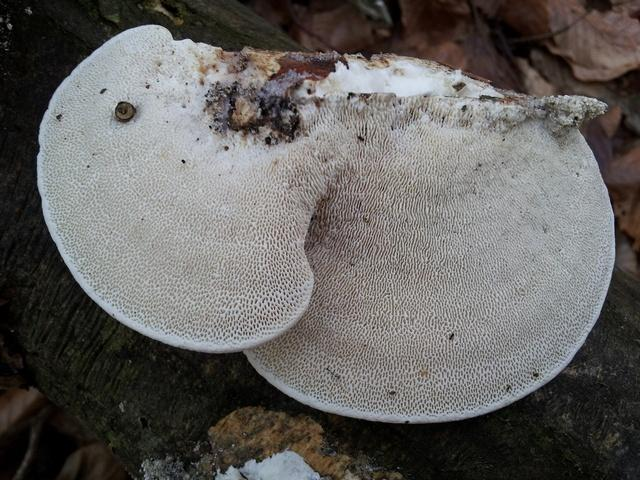Non-edible Mushroom: (35, 23, 616, 425)
